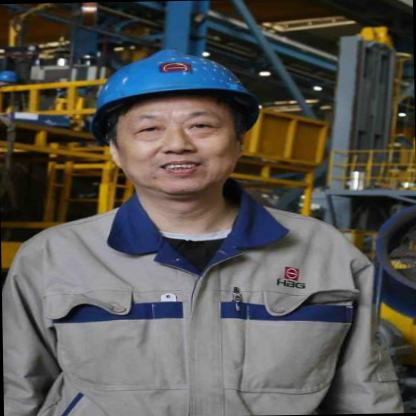helmet: (71, 38, 274, 209)
